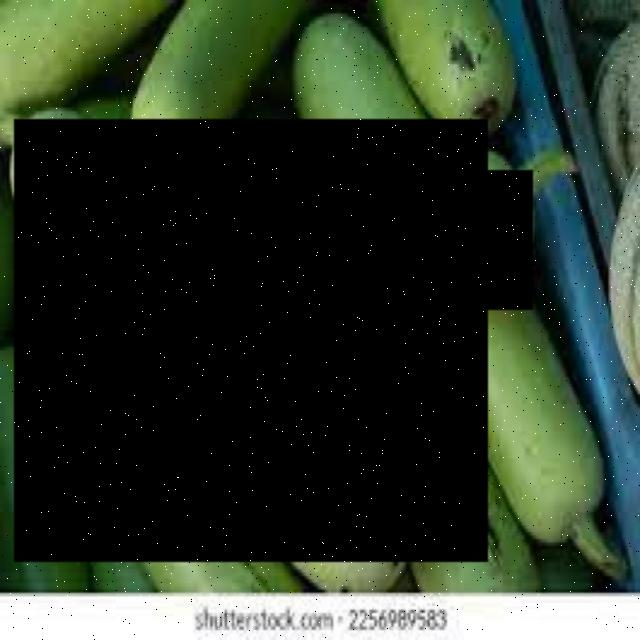Bottle_Gourd: (14, 119, 488, 562), (172, 170, 534, 310)
